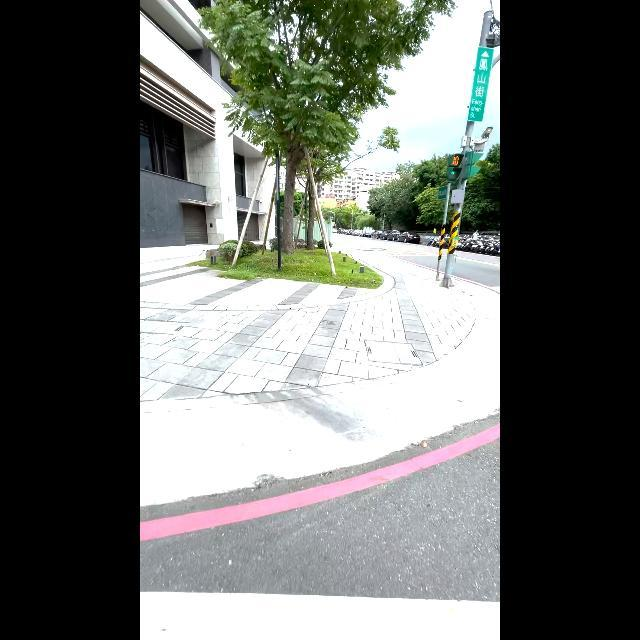sidewalk: (140, 408, 500, 640)
